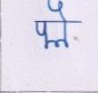ai_matra: (47, 0, 70, 20)
